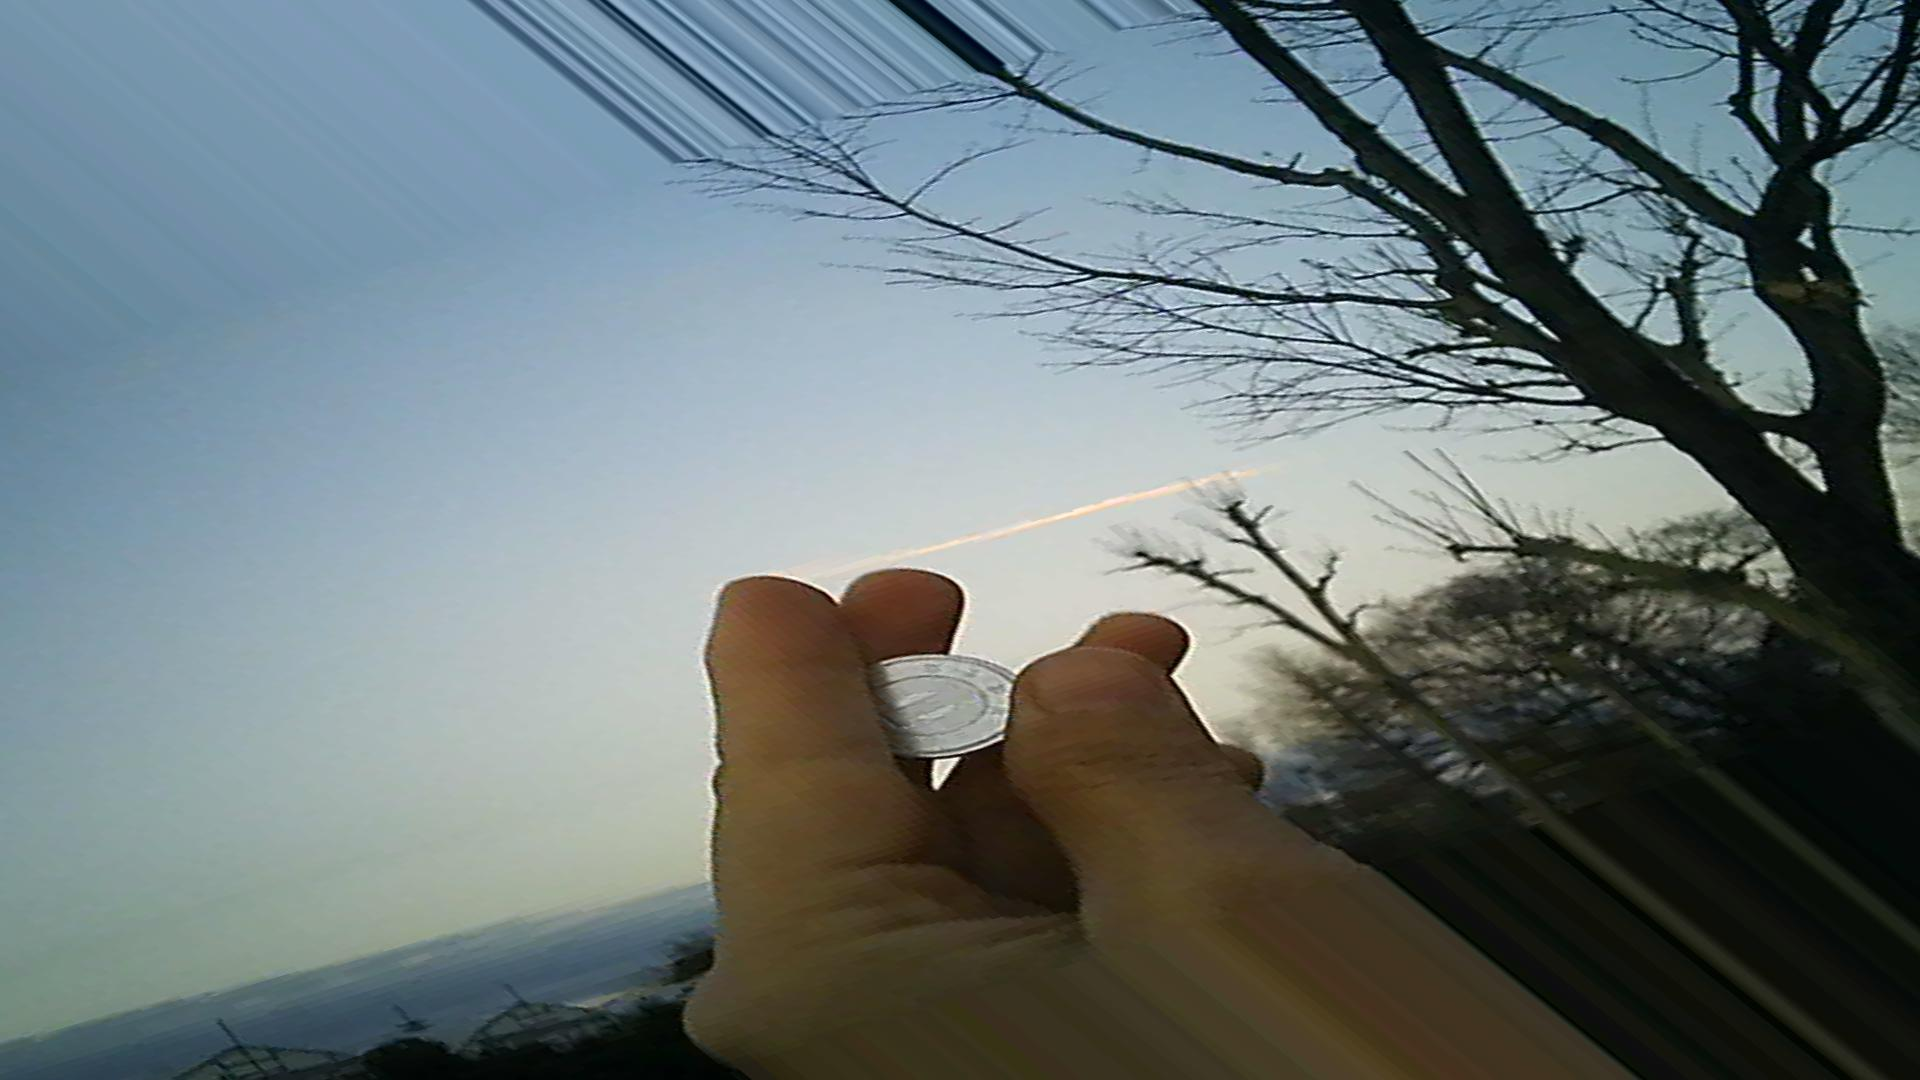1 Yen: (837, 628, 1036, 762)
